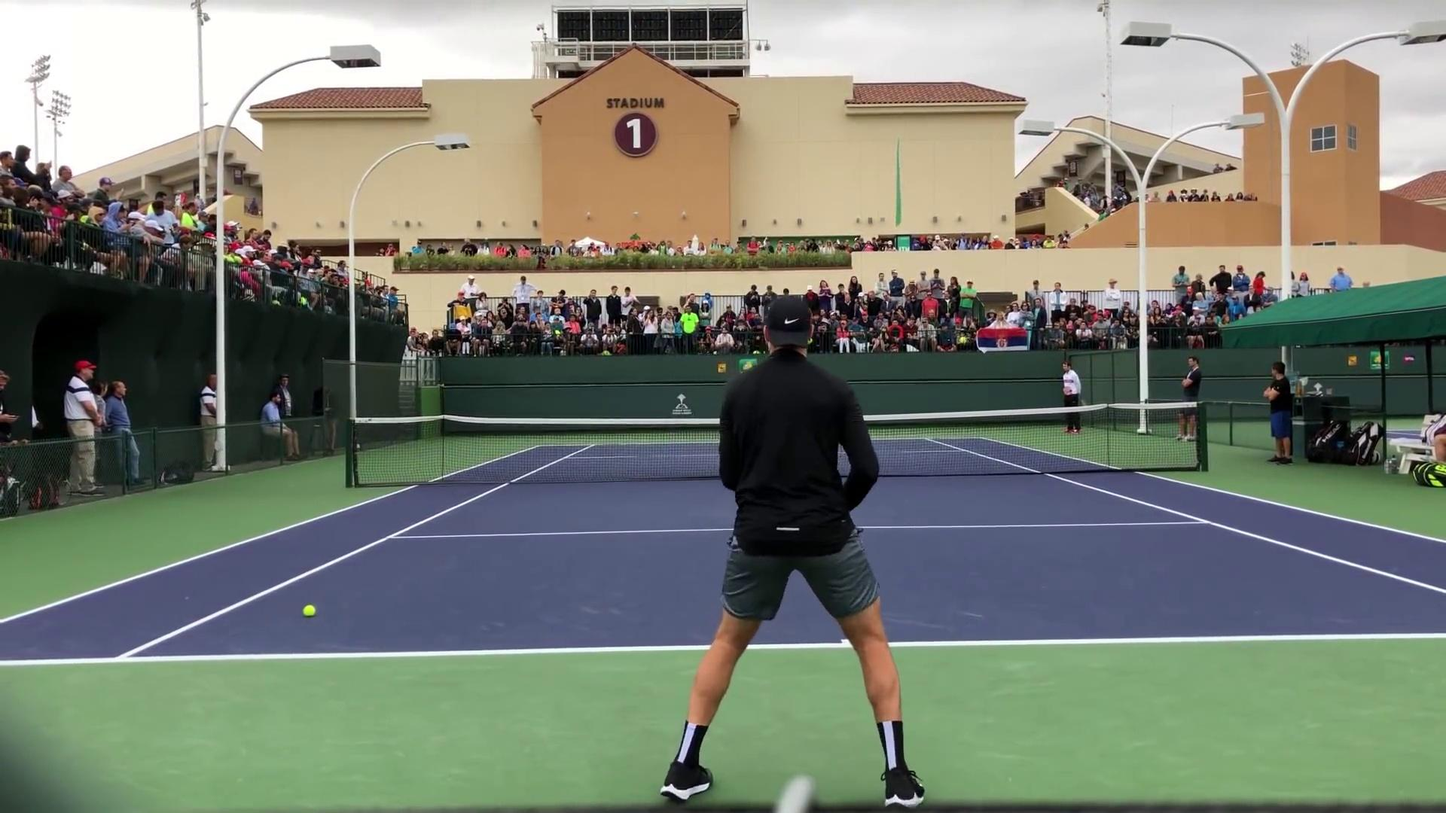ball: (300, 604, 317, 619)
